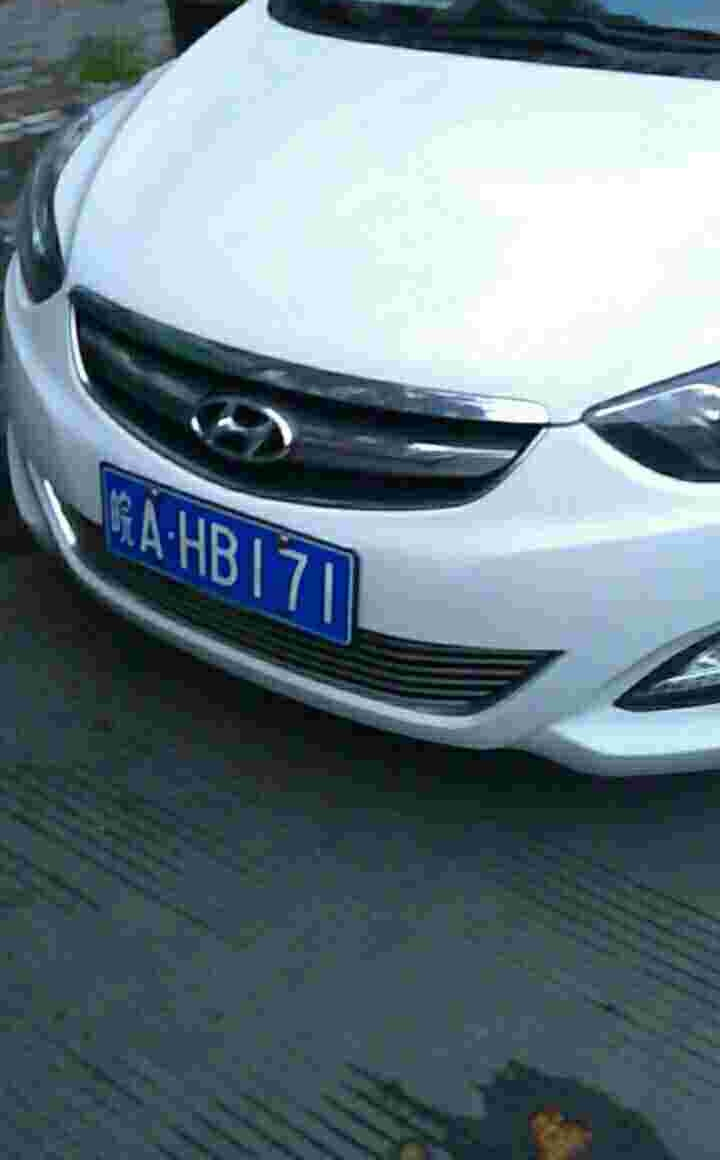license_plate: (91, 461, 360, 645)
